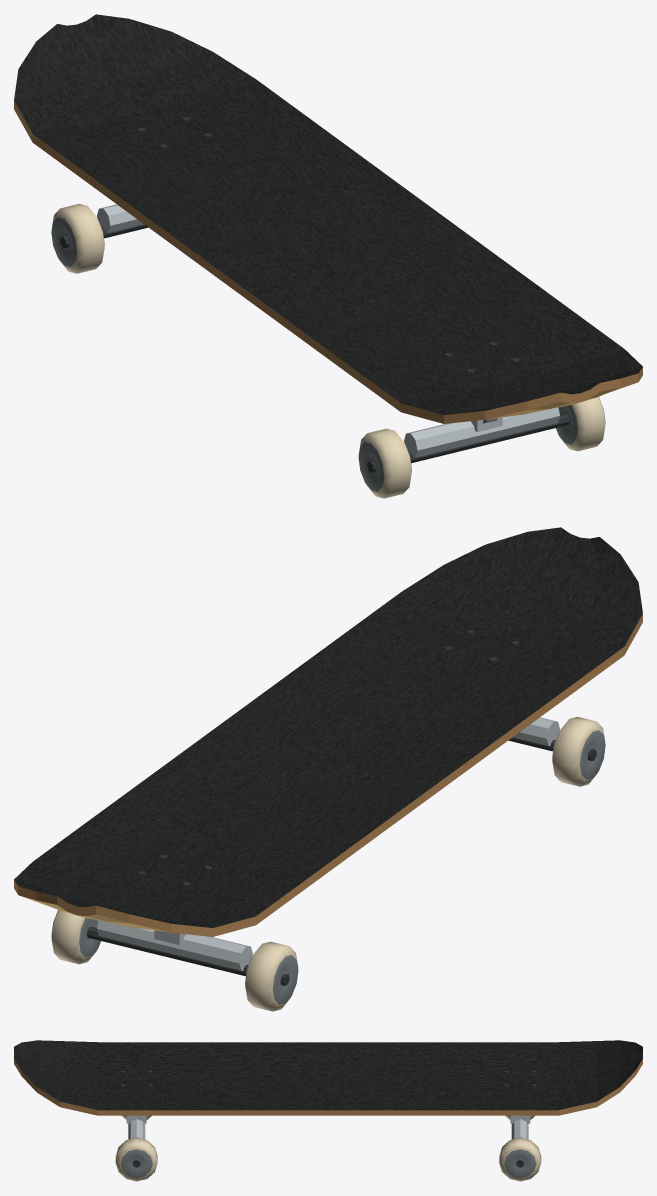
File: 03_Ochre_Run.glb
3 renders of one model, top to bottom at view 1: azimuth 30°, elevation 25°; view 2: azimuth 150°, elevation 25°; view 3: azimuth 270°, elevation 25°, orthographic. The views are drawn at different scales.
Parts seen in each view (by area): view 1: Deck_Ochre_Run, Truck_Rear_Ochre_Run, Wheel_FrontL_Ochre_Run, Wheel_RearL_Ochre_Run, Wheel_RearR_Ochre_Run, Truck_Front_Ochre_Run; view 2: Deck_Ochre_Run, Truck_Front_Ochre_Run, Wheel_RearL_Ochre_Run, Wheel_FrontL_Ochre_Run, Wheel_FrontR_Ochre_Run, Truck_Rear_Ochre_Run; view 3: Deck_Ochre_Run, Wheel_FrontR_Ochre_Run, Wheel_RearR_Ochre_Run, Truck_Front_Ochre_Run, Truck_Rear_Ochre_Run.
Boxes of the visible parts, x1=… form: Deck_Ochre_Run: x1=14, y1=14, x2=642, y2=423; Truck_Rear_Ochre_Run: x1=367, y1=407, x2=570, y2=472; Wheel_FrontL_Ochre_Run: x1=51, y1=203, x2=104, y2=273; Wheel_RearL_Ochre_Run: x1=358, y1=428, x2=411, y2=498; Wheel_RearR_Ochre_Run: x1=556, y1=397, x2=605, y2=451; Truck_Front_Ochre_Run: x1=60, y1=204, x2=148, y2=247; Deck_Ochre_Run: x1=14, y1=527, x2=642, y2=936; Truck_Front_Ochre_Run: x1=86, y1=920, x2=289, y2=985; Wheel_RearL_Ochre_Run: x1=552, y1=716, x2=605, y2=786; Wheel_FrontL_Ochre_Run: x1=245, y1=941, x2=298, y2=1011; Wheel_FrontR_Ochre_Run: x1=51, y1=910, x2=100, y2=964; Truck_Rear_Ochre_Run: x1=508, y1=717, x2=596, y2=760; Deck_Ochre_Run: x1=14, y1=1040, x2=642, y2=1115; Wheel_FrontR_Ochre_Run: x1=499, y1=1137, x2=541, y2=1181; Wheel_RearR_Ochre_Run: x1=115, y1=1137, x2=157, y2=1181; Truck_Front_Ochre_Run: x1=508, y1=1115, x2=530, y2=1167; Truck_Rear_Ochre_Run: x1=125, y1=1115, x2=146, y2=1167.
Size of the model in its own units: 0.21 by 0.139 by 0.82.
8 materials, 2 textured.
